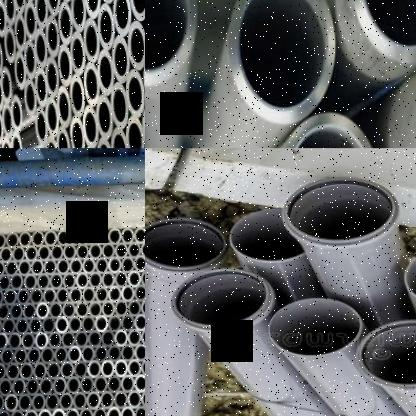pipe: (223, 0, 337, 126), (284, 178, 398, 245), (171, 269, 273, 331), (269, 298, 364, 356), (145, 0, 199, 92), (272, 108, 385, 148), (145, 219, 228, 271), (350, 0, 416, 65), (357, 320, 416, 390), (231, 208, 306, 263), (112, 35, 130, 84), (127, 21, 145, 70), (111, 82, 129, 130), (97, 4, 115, 51), (127, 69, 144, 118), (403, 245, 416, 308), (97, 49, 114, 96), (96, 94, 113, 140), (83, 18, 100, 63), (84, 62, 100, 106), (83, 104, 99, 148), (113, 0, 132, 37), (70, 75, 86, 118), (70, 31, 85, 76), (58, 2, 72, 46), (57, 85, 71, 128), (58, 44, 72, 87), (125, 117, 144, 148), (46, 16, 59, 58), (35, 67, 48, 108), (35, 106, 48, 146), (69, 116, 85, 148), (24, 78, 37, 117), (46, 96, 58, 138), (70, 0, 85, 33), (14, 52, 27, 90), (24, 42, 37, 80), (46, 57, 58, 98), (25, 1, 37, 41), (35, 29, 47, 68), (4, 27, 16, 64), (11, 95, 23, 131), (15, 14, 26, 52), (1, 67, 12, 104), (2, 104, 14, 137), (110, 127, 128, 148), (56, 125, 72, 148), (34, 0, 47, 28), (129, 0, 145, 21), (84, 0, 100, 19), (31, 393, 47, 412), (4, 0, 16, 25), (45, 392, 60, 412), (127, 390, 142, 410), (66, 376, 81, 396), (13, 346, 28, 366), (25, 377, 40, 396), (40, 346, 55, 365), (59, 392, 73, 412), (100, 390, 114, 410), (53, 376, 67, 396), (80, 375, 94, 395), (107, 374, 121, 394), (6, 362, 20, 382), (114, 358, 128, 378), (27, 346, 41, 366), (48, 330, 62, 350), (2, 316, 16, 336), (15, 316, 29, 336), (29, 286, 43, 306), (4, 394, 19, 412), (114, 390, 129, 408), (73, 392, 87, 411), (39, 377, 53, 396), (94, 375, 108, 394), (60, 361, 74, 380), (74, 360, 88, 379), (87, 360, 101, 379), (100, 360, 114, 379), (28, 316, 42, 335), (55, 316, 69, 335), (68, 315, 82, 334), (88, 300, 102, 319), (121, 284, 135, 303), (88, 271, 102, 290), (69, 257, 83, 276), (18, 230, 32, 249), (56, 228, 70, 247), (69, 228, 83, 247), (87, 391, 100, 411), (121, 374, 134, 394), (20, 362, 33, 382), (128, 358, 141, 378), (81, 344, 94, 364), (95, 344, 108, 364), (62, 330, 75, 350), (108, 284, 121, 304), (128, 240, 141, 260), (12, 378, 26, 396), (33, 362, 47, 380), (54, 346, 68, 364), (21, 332, 35, 350), (42, 316, 56, 334), (81, 315, 95, 333), (75, 301, 89, 319), (3, 288, 17, 306), (16, 288, 30, 306), (82, 286, 96, 304), (10, 273, 24, 291), (36, 272, 50, 290), (49, 272, 63, 290), (56, 258, 70, 276), (82, 258, 96, 276), (95, 257, 109, 275), (24, 244, 38, 262), (37, 244, 51, 262), (31, 230, 45, 248), (44, 230, 58, 248), (95, 228, 109, 246), (108, 228, 122, 246), (0, 378, 13, 397), (1, 347, 14, 366), (68, 345, 81, 364), (108, 344, 121, 363), (8, 332, 21, 351), (35, 331, 48, 350), (75, 330, 88, 349), (115, 329, 128, 348), (128, 328, 141, 347), (95, 314, 108, 333), (108, 314, 121, 333), (23, 302, 36, 321), (49, 301, 62, 320), (115, 299, 128, 318), (128, 299, 141, 318), (133, 373, 145, 393), (18, 394, 31, 412), (47, 362, 60, 380), (121, 344, 134, 362), (88, 330, 101, 348), (121, 314, 134, 332), (10, 302, 23, 320), (36, 302, 49, 320), (63, 301, 76, 319), (43, 286, 56, 304), (56, 286, 69, 304), (69, 286, 82, 304), (63, 272, 76, 290), (76, 272, 89, 290), (115, 270, 128, 288), (128, 270, 141, 288), (44, 258, 57, 276), (108, 256, 121, 274), (121, 256, 134, 274), (50, 244, 63, 262), (76, 242, 89, 260), (89, 242, 102, 260), (115, 242, 128, 260), (102, 242, 115, 260), (6, 231, 19, 249), (83, 228, 96, 246), (121, 227, 134, 245), (102, 329, 114, 348), (46, 0, 60, 16), (63, 244, 77, 260), (5, 260, 18, 277), (18, 259, 31, 276), (31, 259, 44, 276), (134, 342, 145, 362), (133, 313, 145, 331), (102, 300, 114, 318), (96, 286, 108, 304), (133, 284, 145, 302), (133, 255, 145, 273), (133, 226, 145, 244), (0, 1, 6, 36), (24, 274, 37, 290), (102, 272, 115, 288), (0, 246, 13, 262), (12, 246, 25, 262), (11, 131, 23, 148), (0, 274, 11, 292), (96, 137, 112, 148), (14, 0, 26, 14), (0, 302, 9, 320), (78, 406, 93, 416), (92, 406, 107, 416), (119, 406, 134, 416), (106, 406, 120, 416), (36, 407, 51, 416), (0, 332, 7, 351), (133, 405, 145, 416), (51, 407, 65, 416), (65, 407, 79, 416), (1, 137, 12, 148), (0, 362, 6, 381), (10, 408, 24, 416), (0, 232, 6, 250), (0, 109, 3, 144), (24, 408, 37, 416), (0, 77, 3, 111), (0, 393, 4, 413), (141, 388, 145, 408), (141, 357, 145, 377), (141, 327, 145, 346), (141, 298, 145, 316), (141, 269, 145, 287), (0, 260, 4, 278), (141, 240, 145, 258), (0, 39, 2, 74), (0, 409, 10, 416), (0, 288, 3, 306), (0, 317, 2, 335)
